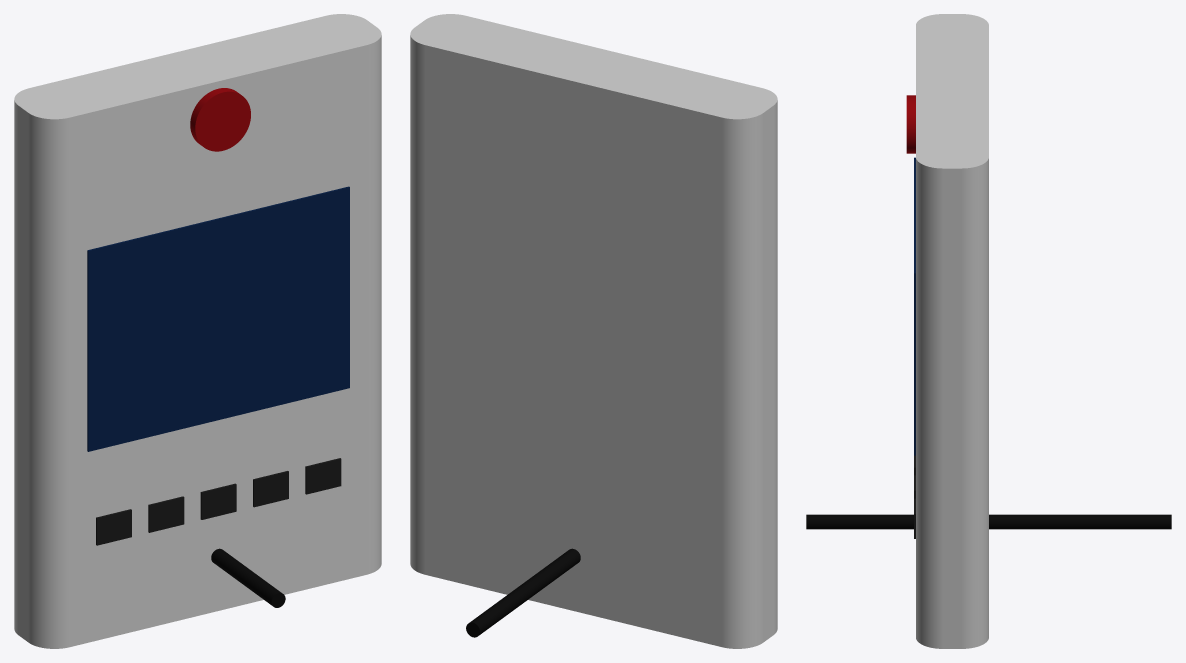
Rendered from teach_pendant.glb.
3 views of the same model, side by side, from view 1: azimuth 30°, elevation 25°; view 2: azimuth 150°, elevation 25°; view 3: azimuth 270°, elevation 25° (orthographic). The views are drawn at different scales.
Visible parts, largest first — view 1: pendant; view 2: pendant; view 3: pendant.
Part boxes in pixels (x1=…): pendant: x1=14, y1=14, x2=381, y2=648; pendant: x1=410, y1=14, x2=777, y2=648; pendant: x1=806, y1=14, x2=1171, y2=648.
Size of the model in its own units: 0.2 by 0.29 by 0.2.
